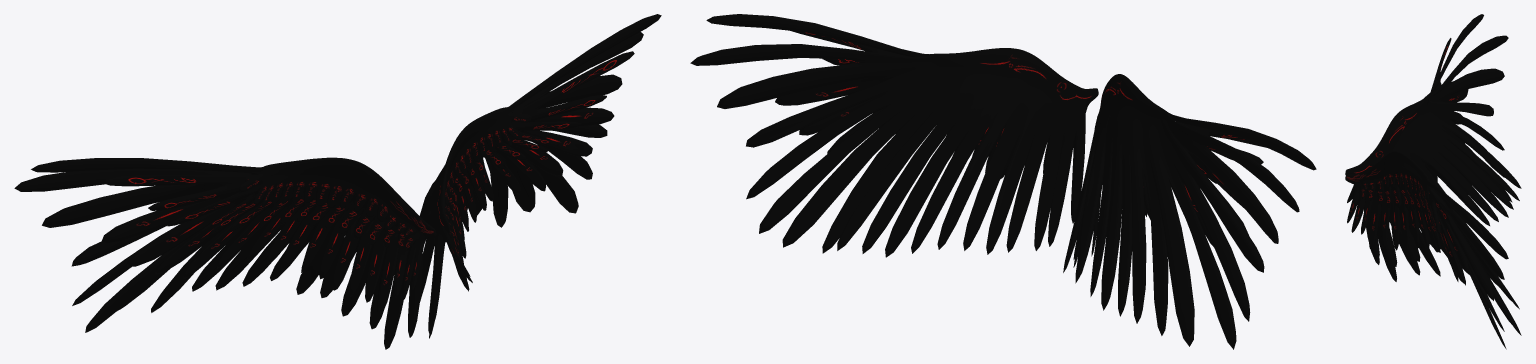
File: wings-compressed.glb
3 renders of one model, left to right at view 1: azimuth 30°, elevation 25°; view 2: azimuth 150°, elevation 25°; view 3: azimuth 270°, elevation 25°, orthographic. The views are drawn at different scales.
Visible parts, largest first — view 1: pCube1_0; view 2: pCube1_0; view 3: pCube1_0.
Boxes of the visible parts, x1,y1,x2,y2 form: pCube1_0: [14, 14, 661, 349]; pCube1_0: [690, 14, 1316, 349]; pCube1_0: [1345, 14, 1521, 349].
Size of the model in its own units: 68.61 by 22.37 by 23.11.
Materials: 1 (1 with a texture image).
